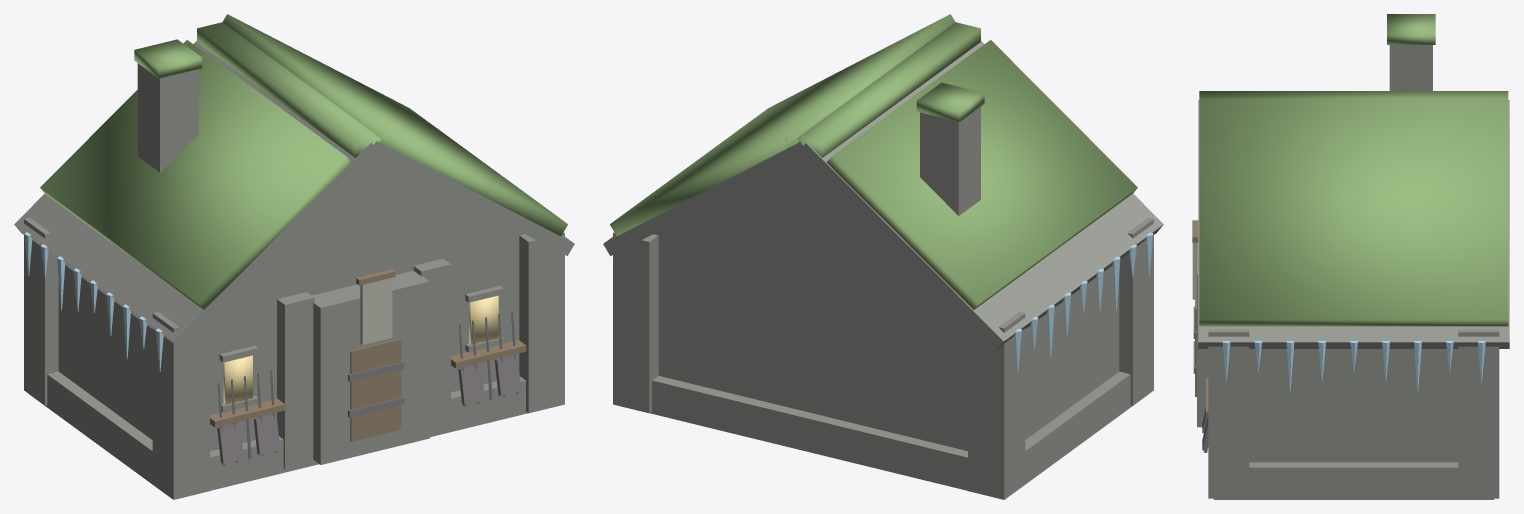
The model's file is FrozenF17Kit.fbx.
3 renders of one model, left to right at view 1: azimuth 30°, elevation 25°; view 2: azimuth 150°, elevation 25°; view 3: azimuth 270°, elevation 25°, orthographic. The views are drawn at different scales.
Visible parts, largest first — view 1: BarracksBlock__STONE, BarracksBlock__MOSS, BarracksBlock__WOOD, BarracksBlock__METAL, BarracksBlock__GLOW, BarracksBlock__TRIM, BarracksBlock__CRYSTAL; view 2: BarracksBlock__STONE, BarracksBlock__MOSS, BarracksBlock__CRYSTAL; view 3: BarracksBlock__MOSS, BarracksBlock__STONE, BarracksBlock__CRYSTAL, BarracksBlock__WOOD, BarracksBlock__METAL.
Part boxes in pixels (x1,y1,x2,y2): BarracksBlock__STONE: (14,41,574,499); BarracksBlock__MOSS: (40,14,567,309); BarracksBlock__WOOD: (210,269,526,441); BarracksBlock__METAL: (217,311,521,465); BarracksBlock__GLOW: (223,295,498,404); BarracksBlock__TRIM: (360,278,392,344); BarracksBlock__CRYSTAL: (24,232,163,371); BarracksBlock__STONE: (603,41,1163,499); BarracksBlock__MOSS: (610,14,1137,309); BarracksBlock__CRYSTAL: (613,232,1153,371); BarracksBlock__MOSS: (1199,14,1508,326); BarracksBlock__STONE: (1197,45,1509,499); BarracksBlock__CRYSTAL: (1222,341,1485,392); BarracksBlock__WOOD: (1192,220,1208,417); BarracksBlock__METAL: (1193,306,1208,452).
Size of the model in its own units: 35.85 by 29.25 by 24.85.
